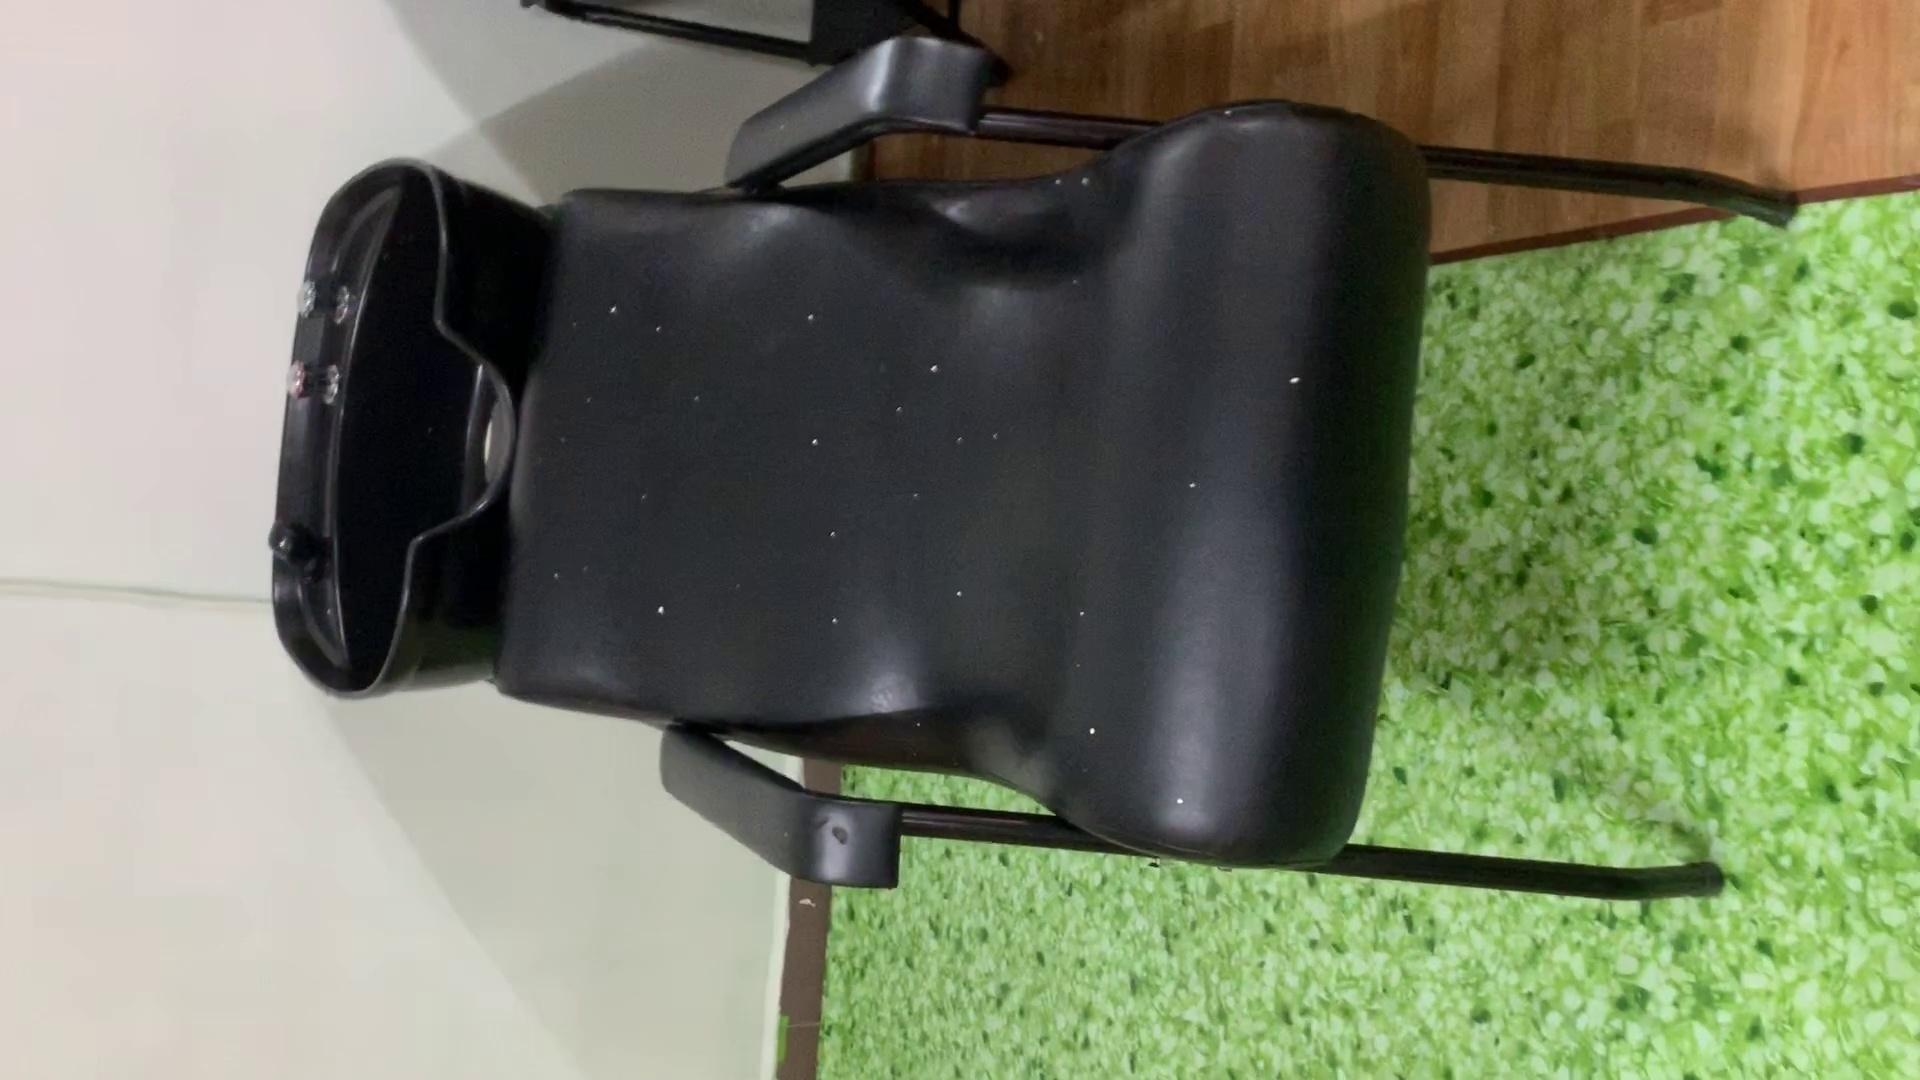chair: (484, 28, 1817, 934)
